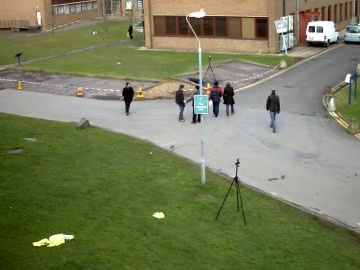person: (174, 83, 191, 119), (121, 82, 135, 114), (122, 82, 136, 114)
